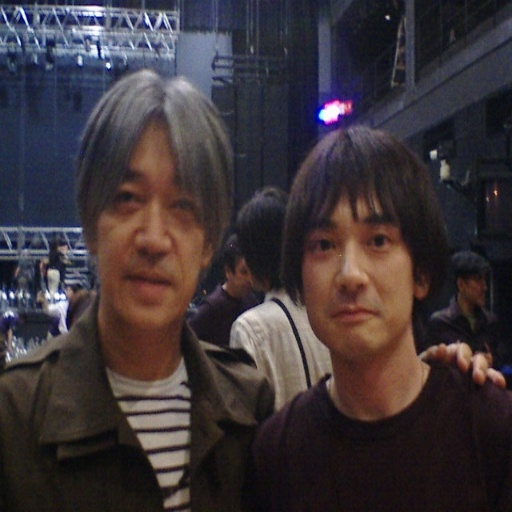hand: (435, 344, 497, 393)
